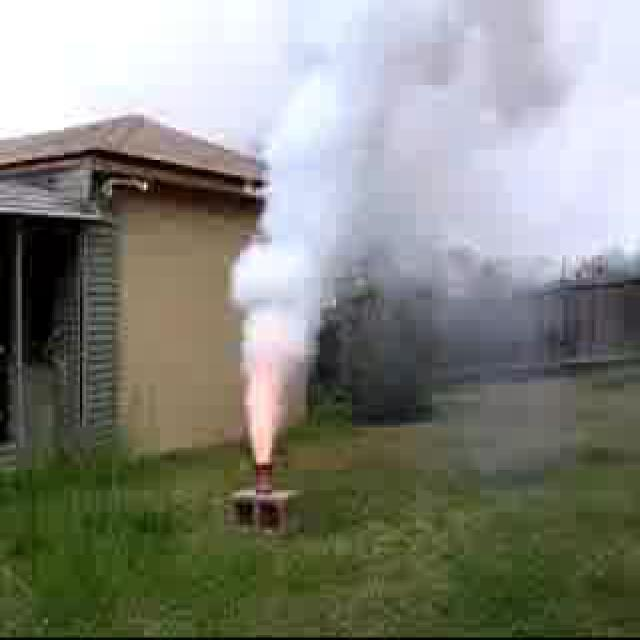Smoke: (243, 101, 316, 472)
